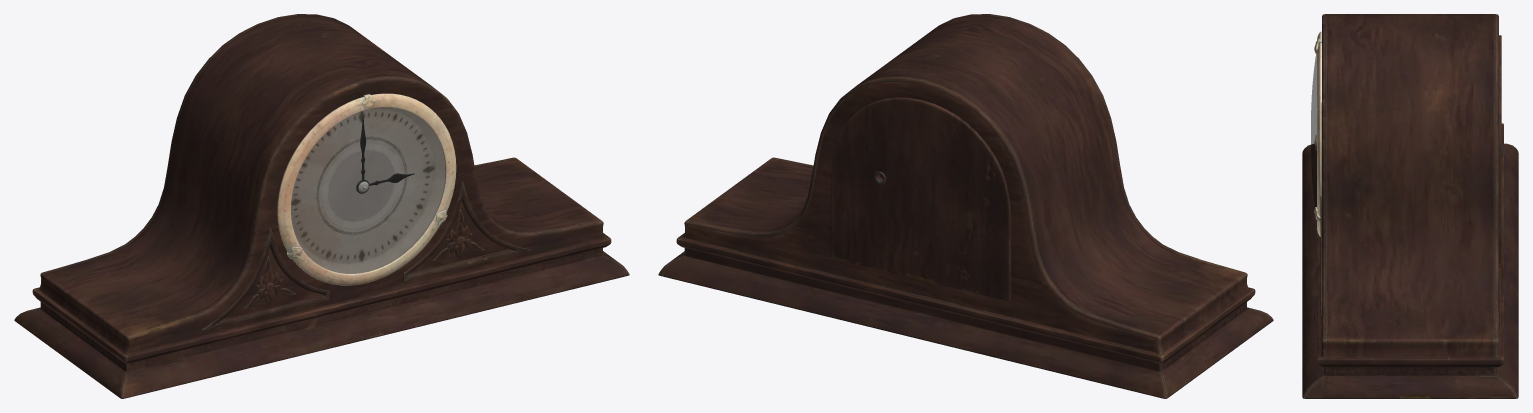
File: mantel_clock_01.glb
The picture shows the model from 3 angles, left to right: view 1: azimuth 30°, elevation 25°; view 2: azimuth 150°, elevation 25°; view 3: azimuth 270°, elevation 25°; orthographic projection.
Visible parts, largest first — view 1: mantel_clock_01, mantel_clock_01_glass; view 2: mantel_clock_01; view 3: mantel_clock_01, mantel_clock_01_glass.
Part boxes in pixels (box(x1,y1,x2,y2)): mantel_clock_01: box(14, 14, 629, 398); mantel_clock_01_glass: box(291, 107, 445, 273); mantel_clock_01: box(658, 14, 1273, 398); mantel_clock_01: box(1302, 14, 1518, 398); mantel_clock_01_glass: box(1311, 53, 1316, 207).
Bounding box in the file's own units: 0.3423 × 0.1605 × 0.1262.
Materials: 2 (2 with a texture image).
